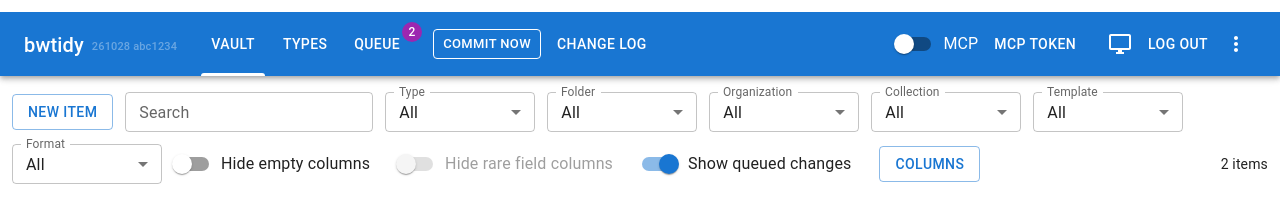
Scenario: the Queue button tooltip explains its number: both
The width and height of the screenshot is (1280, 201).
Hover over the button with aria-label "Queue, 2 pending: 1 unsaved edits, 1 MCP proposals to review" at (377, 44), box [345,12,409,76]
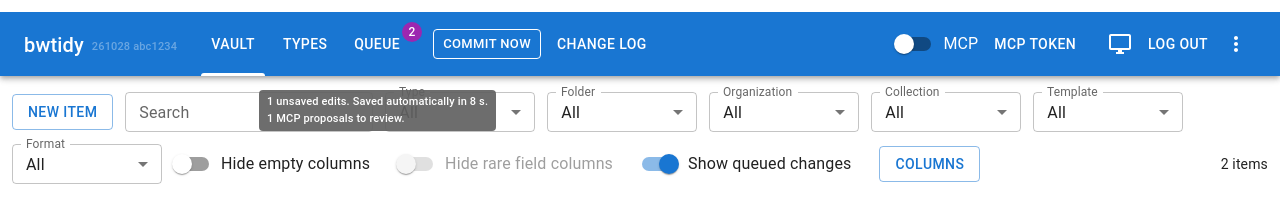
Check: the tooltip reads "1 unsaved edits. Saved automatically in 8 s. 1 MCP proposals to review.", box [257,76,498,133]
